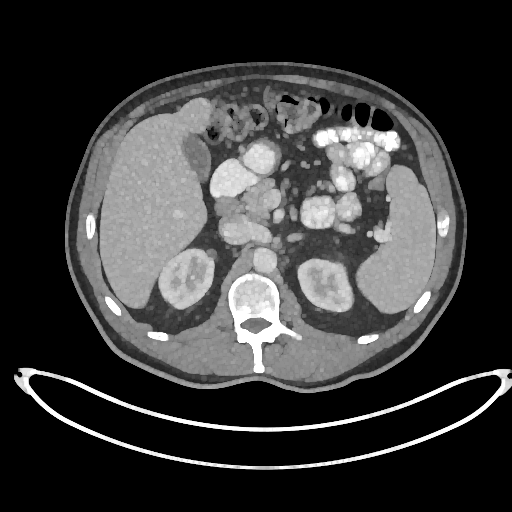Lesion: (198, 244, 221, 262)
